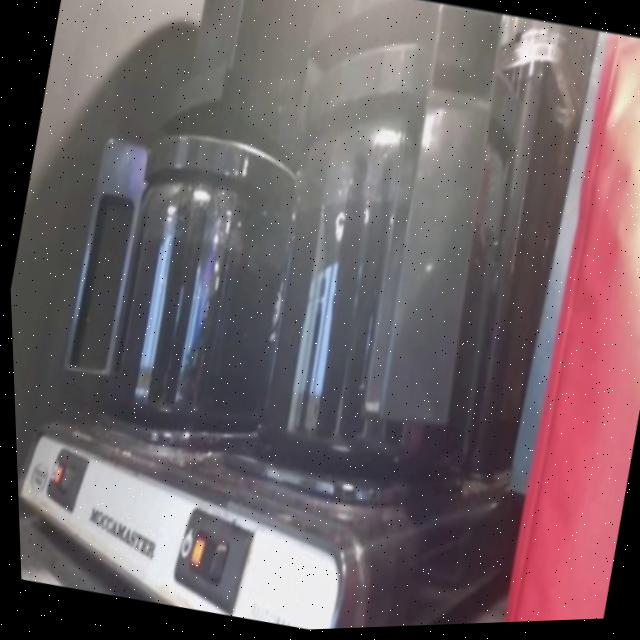coffee: (245, 143, 518, 489), (96, 187, 297, 439)
